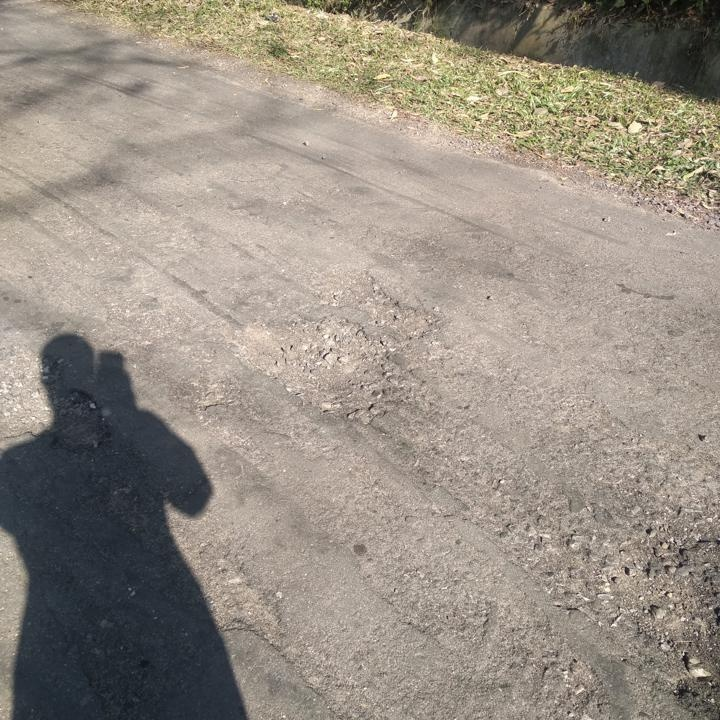pothole: (229, 313, 400, 424), (596, 549, 719, 673), (320, 266, 441, 337)
